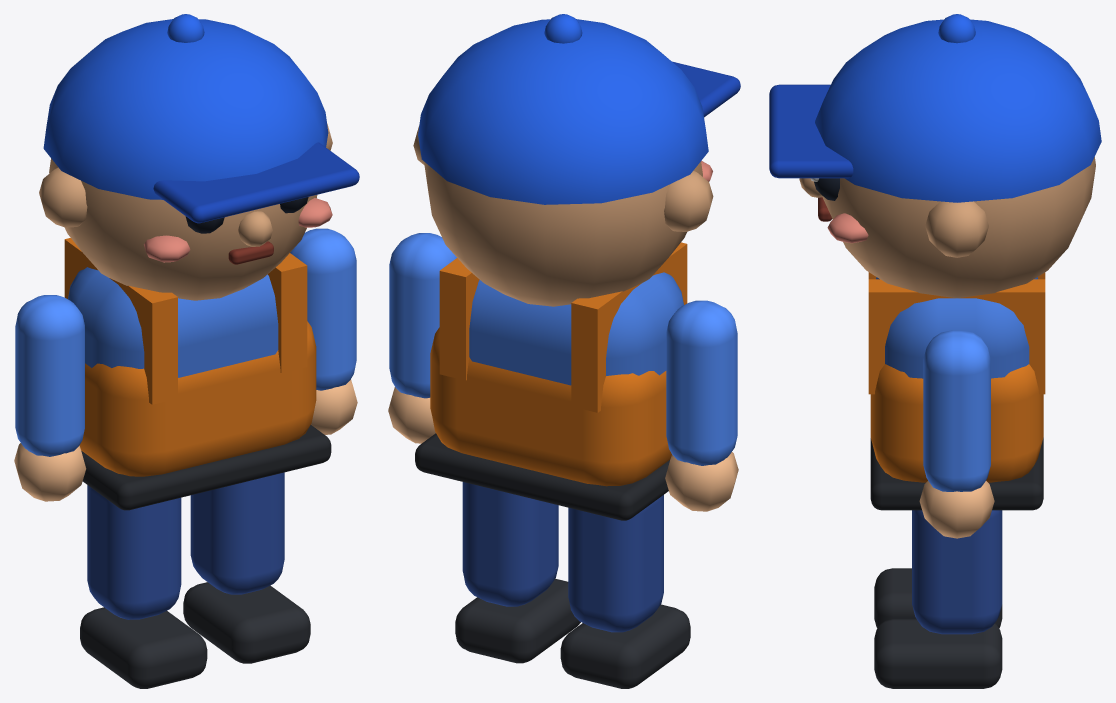
The model's file is person_stocker.glb.
The picture shows the model from 3 angles, left to right: view 1: azimuth 30°, elevation 25°; view 2: azimuth 150°, elevation 25°; view 3: azimuth 270°, elevation 25°; orthographic projection. The views are drawn at different scales.
Visible parts, largest first — view 1: Torso, Hat, LegL, LegR, ArmL, ArmR; view 2: Torso, Hat, LegL, LegR, ArmL, ArmR; view 3: Torso, Hat, LegR, ArmR, LegL.
Part boxes in pixels (left/top/right/bottom): Torso: left=39, top=123, right=332, bottom=510; Hat: left=43, top=14, right=359, bottom=223; LegL: left=80, top=485, right=207, bottom=688; LegR: left=183, top=472, right=310, bottom=663; ArmL: left=14, top=295, right=86, bottom=501; ArmR: left=290, top=228, right=357, bottom=434; Torso: left=413, top=126, right=713, bottom=520; Hat: left=418, top=14, right=740, bottom=204; LegL: left=560, top=495, right=690, bottom=688; LegR: left=455, top=482, right=580, bottom=663; ArmL: left=665, top=300, right=738, bottom=511; ArmR: left=388, top=233, right=456, bottom=443; Torso: left=799, top=157, right=1095, bottom=510; Hat: left=769, top=14, right=1101, bottom=202; LegR: left=874, top=510, right=1002, bottom=688; ArmR: left=919, top=330, right=994, bottom=538; LegL: left=874, top=568, right=1002, bottom=628.
Bounding box in the file's own units: 1.04 × 1.86 × 0.885.
